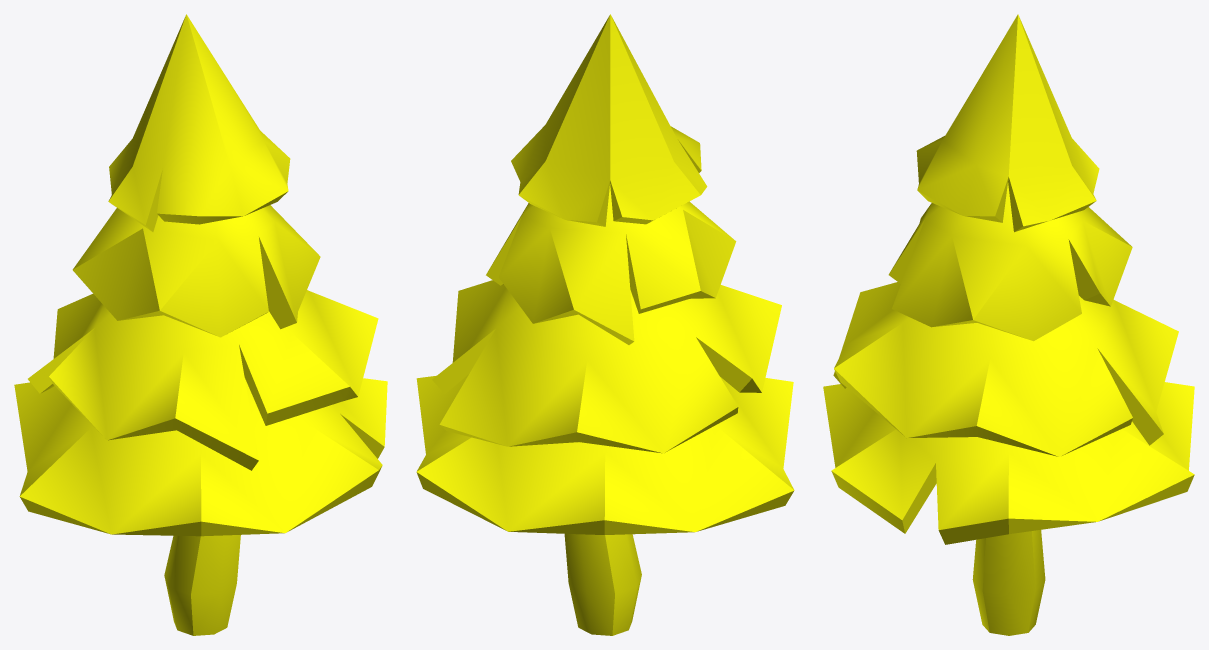
File: kaykit-tree-pine-yellow-large.glb
The picture shows the model from 3 angles, left to right: view 1: azimuth 30°, elevation 25°; view 2: azimuth 150°, elevation 25°; view 3: azimuth 270°, elevation 25°; orthographic projection.
Visible parts, largest first — view 1: tree_pine_yellow_large; view 2: tree_pine_yellow_large; view 3: tree_pine_yellow_large.
Boxes of the visible parts, <box> form: tree_pine_yellow_large: <box>14,14,387,635</box>; tree_pine_yellow_large: <box>416,14,794,635</box>; tree_pine_yellow_large: <box>823,14,1194,635</box>.
Bounding box in the file's own units: 4.76 × 7.48 × 4.16.
